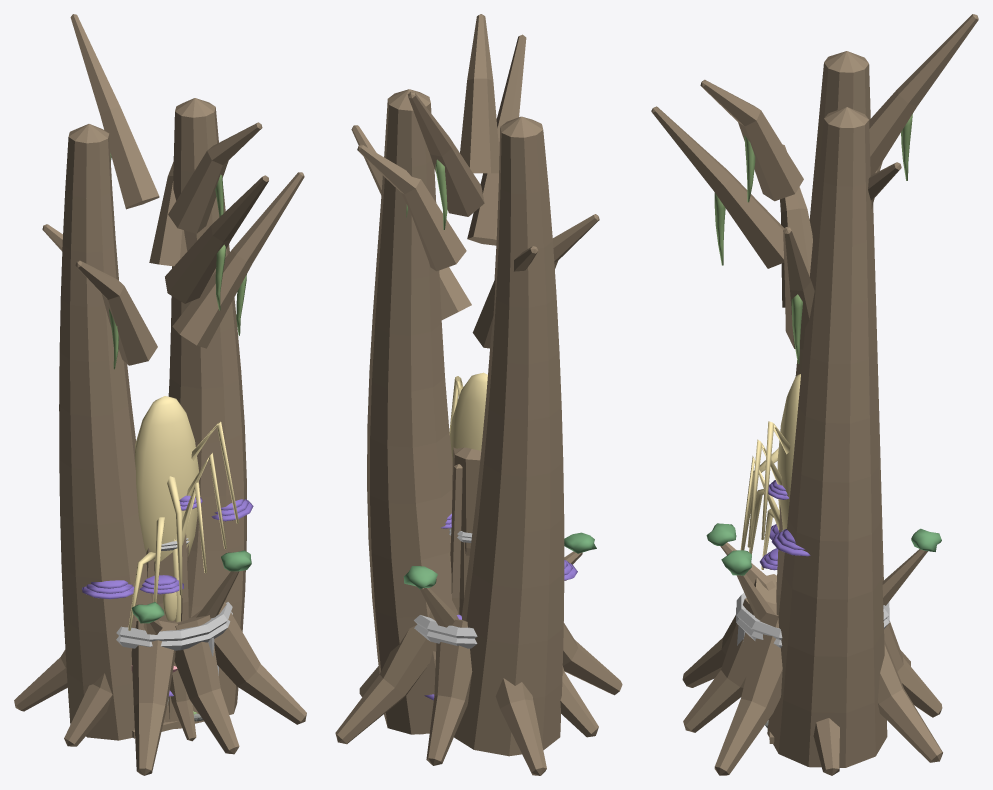
The model's file is CorruptedF34Kit.fbx.
The picture shows the model from 3 angles, left to right: view 1: azimuth 30°, elevation 25°; view 2: azimuth 150°, elevation 25°; view 3: azimuth 270°, elevation 25°; orthographic projection. The views are drawn at different scales.
Parts seen in each view (by area): view 1: GreatRotwoodCavity__WOOD, GreatRotwoodCavity__GLOW, GreatRotwoodCavity__SILK, ElderTrunkRootFlare__WOOD, GreatRotwoodCavity__MOSS, GreatRotwoodCavity__CAP, ElderTrunkFork__FOLIAGE, ElderTrunkFork__WOOD, ElderTrunkBoleB__CAP, ElderTrunkBoleA__WOOD; view 2: GreatRotwoodCavity__WOOD, ElderTrunkBoleA__WOOD, GreatRotwoodCavity__GLOW, GreatRotwoodCavity__SILK, ElderTrunkFork__FOLIAGE, ElderTrunkFork__WOOD; view 3: GreatRotwoodCavity__WOOD, GreatRotwoodCavity__GLOW, ElderTrunkFork__WOOD, GreatRotwoodCavity__MOSS, ElderTrunkFork__FOLIAGE, GreatRotwoodCavity__SILK, GreatRotwoodCavity__CAP, ElderTrunkBoleB__CAP.
Boxes of the visible parts, x1=… form: GreatRotwoodCavity__WOOD: x1=14, y1=14, x2=306, y2=775; GreatRotwoodCavity__GLOW: x1=128, y1=396, x2=238, y2=630; GreatRotwoodCavity__SILK: x1=116, y1=602, x2=232, y2=656; ElderTrunkRootFlare__WOOD: x1=154, y1=552, x2=196, y2=741; GreatRotwoodCavity__MOSS: x1=109, y1=153, x2=246, y2=369; GreatRotwoodCavity__CAP: x1=82, y1=498, x2=253, y2=599; ElderTrunkFork__FOLIAGE: x1=132, y1=550, x2=251, y2=623; ElderTrunkFork__WOOD: x1=143, y1=571, x2=239, y2=634; ElderTrunkBoleB__CAP: x1=139, y1=495, x2=202, y2=594; ElderTrunkBoleA__WOOD: x1=146, y1=534, x2=188, y2=621; GreatRotwoodCavity__WOOD: x1=335, y1=14, x2=622, y2=775; ElderTrunkBoleA__WOOD: x1=450, y1=447, x2=481, y2=614; GreatRotwoodCavity__GLOW: x1=449, y1=372, x2=566, y2=580; GreatRotwoodCavity__SILK: x1=414, y1=615, x2=477, y2=648; ElderTrunkFork__FOLIAGE: x1=403, y1=532, x2=596, y2=589; ElderTrunkFork__WOOD: x1=420, y1=551, x2=582, y2=627; GreatRotwoodCavity__WOOD: x1=651, y1=14, x2=978, y2=775; GreatRotwoodCavity__GLOW: x1=740, y1=374, x2=800, y2=569; ElderTrunkFork__WOOD: x1=720, y1=542, x2=927, y2=620; GreatRotwoodCavity__MOSS: x1=714, y1=114, x2=912, y2=363; ElderTrunkFork__FOLIAGE: x1=706, y1=523, x2=941, y2=575; GreatRotwoodCavity__SILK: x1=736, y1=592, x2=889, y2=647; GreatRotwoodCavity__CAP: x1=769, y1=524, x2=810, y2=556; ElderTrunkBoleB__CAP: x1=759, y1=480, x2=788, y2=570.
Size of the model in its own units: 61.38 by 163 by 68.18.
